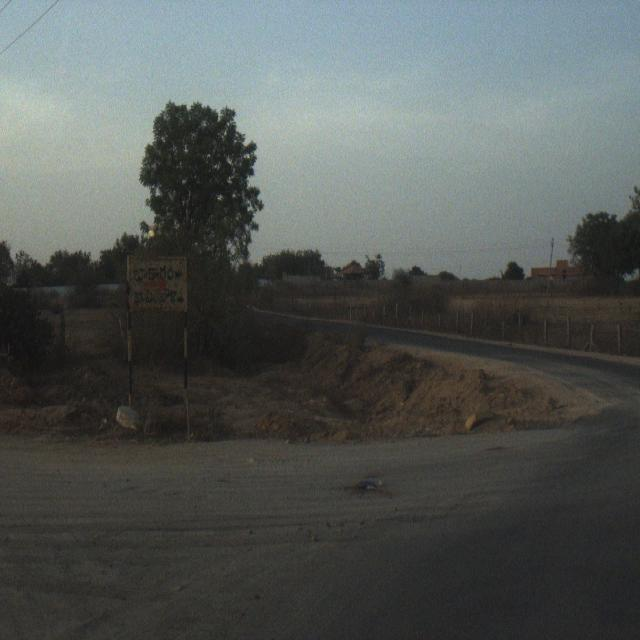pothole: (36, 574, 156, 640), (329, 456, 409, 538)
